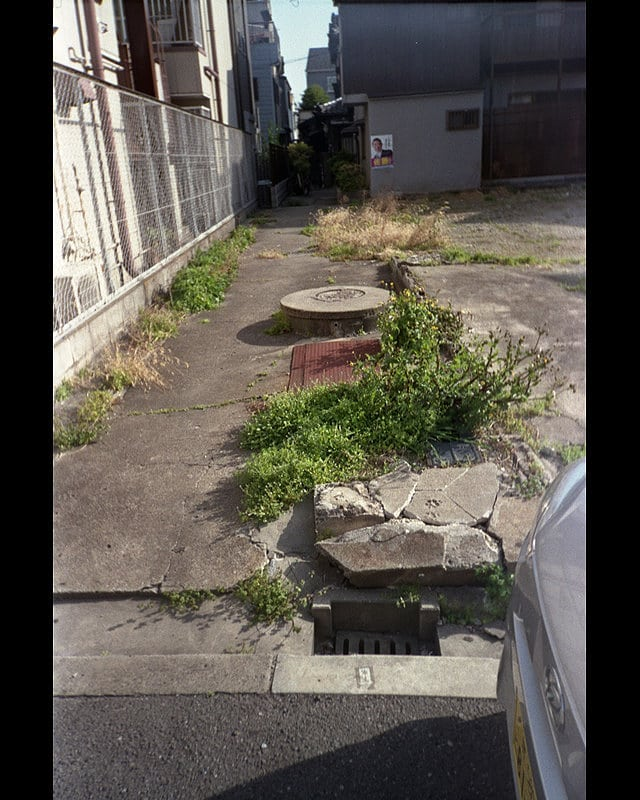building: (316, 1, 595, 209), (54, 1, 166, 394), (151, 1, 250, 233), (246, 1, 295, 185)
